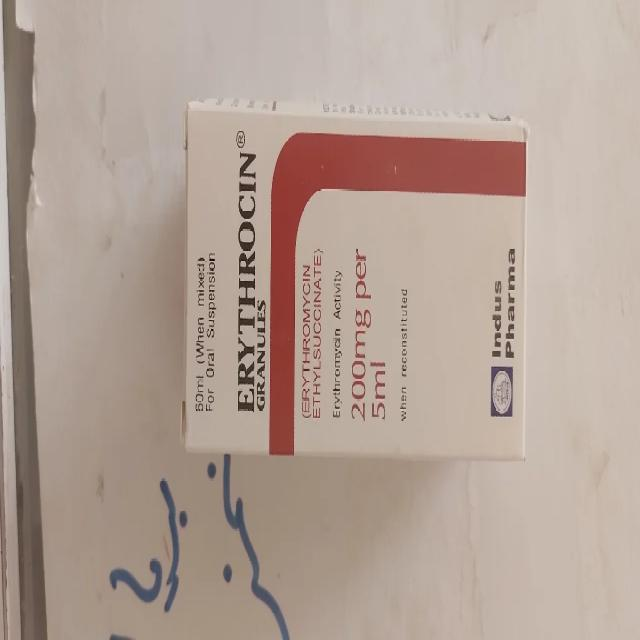drug-name: (236, 148, 256, 413)
